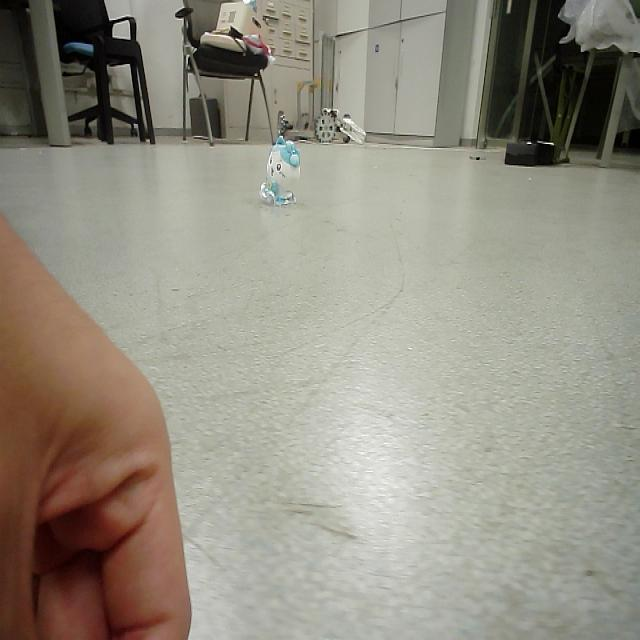xiaoba: (259, 135, 302, 208)
